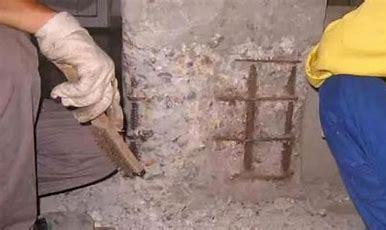Exposed reinforcement: (279, 65, 297, 172), (242, 63, 258, 171), (230, 169, 296, 182), (212, 134, 297, 144), (128, 102, 141, 159), (218, 94, 299, 103), (124, 128, 154, 142), (234, 58, 302, 64), (126, 95, 145, 102)
Spalling: (119, 30, 307, 183)
